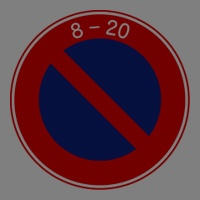Prohibition_sign: (8, 4, 196, 189)
